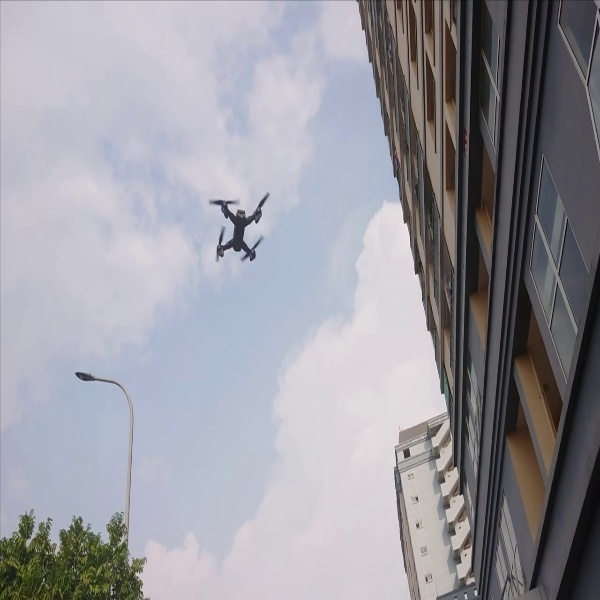drone: (198, 184, 274, 270)
